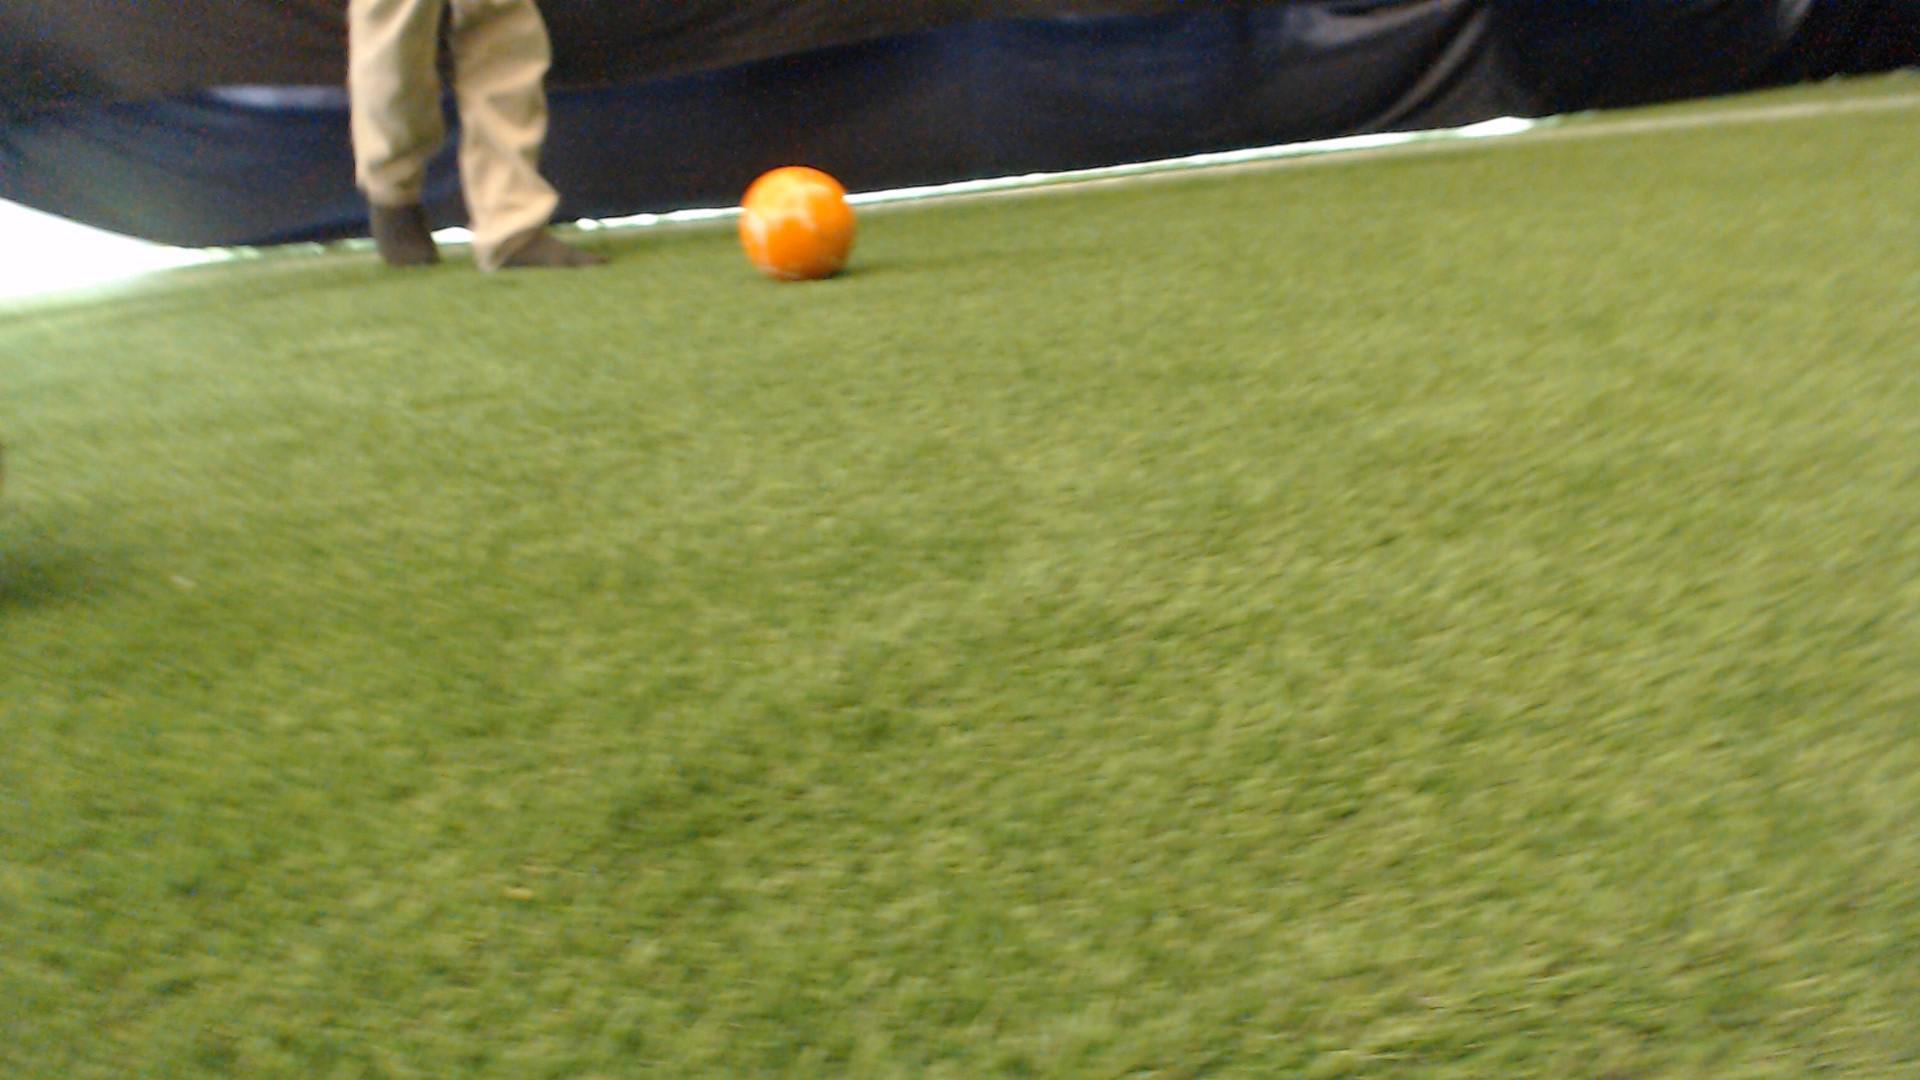bola: (715, 156, 886, 299)
